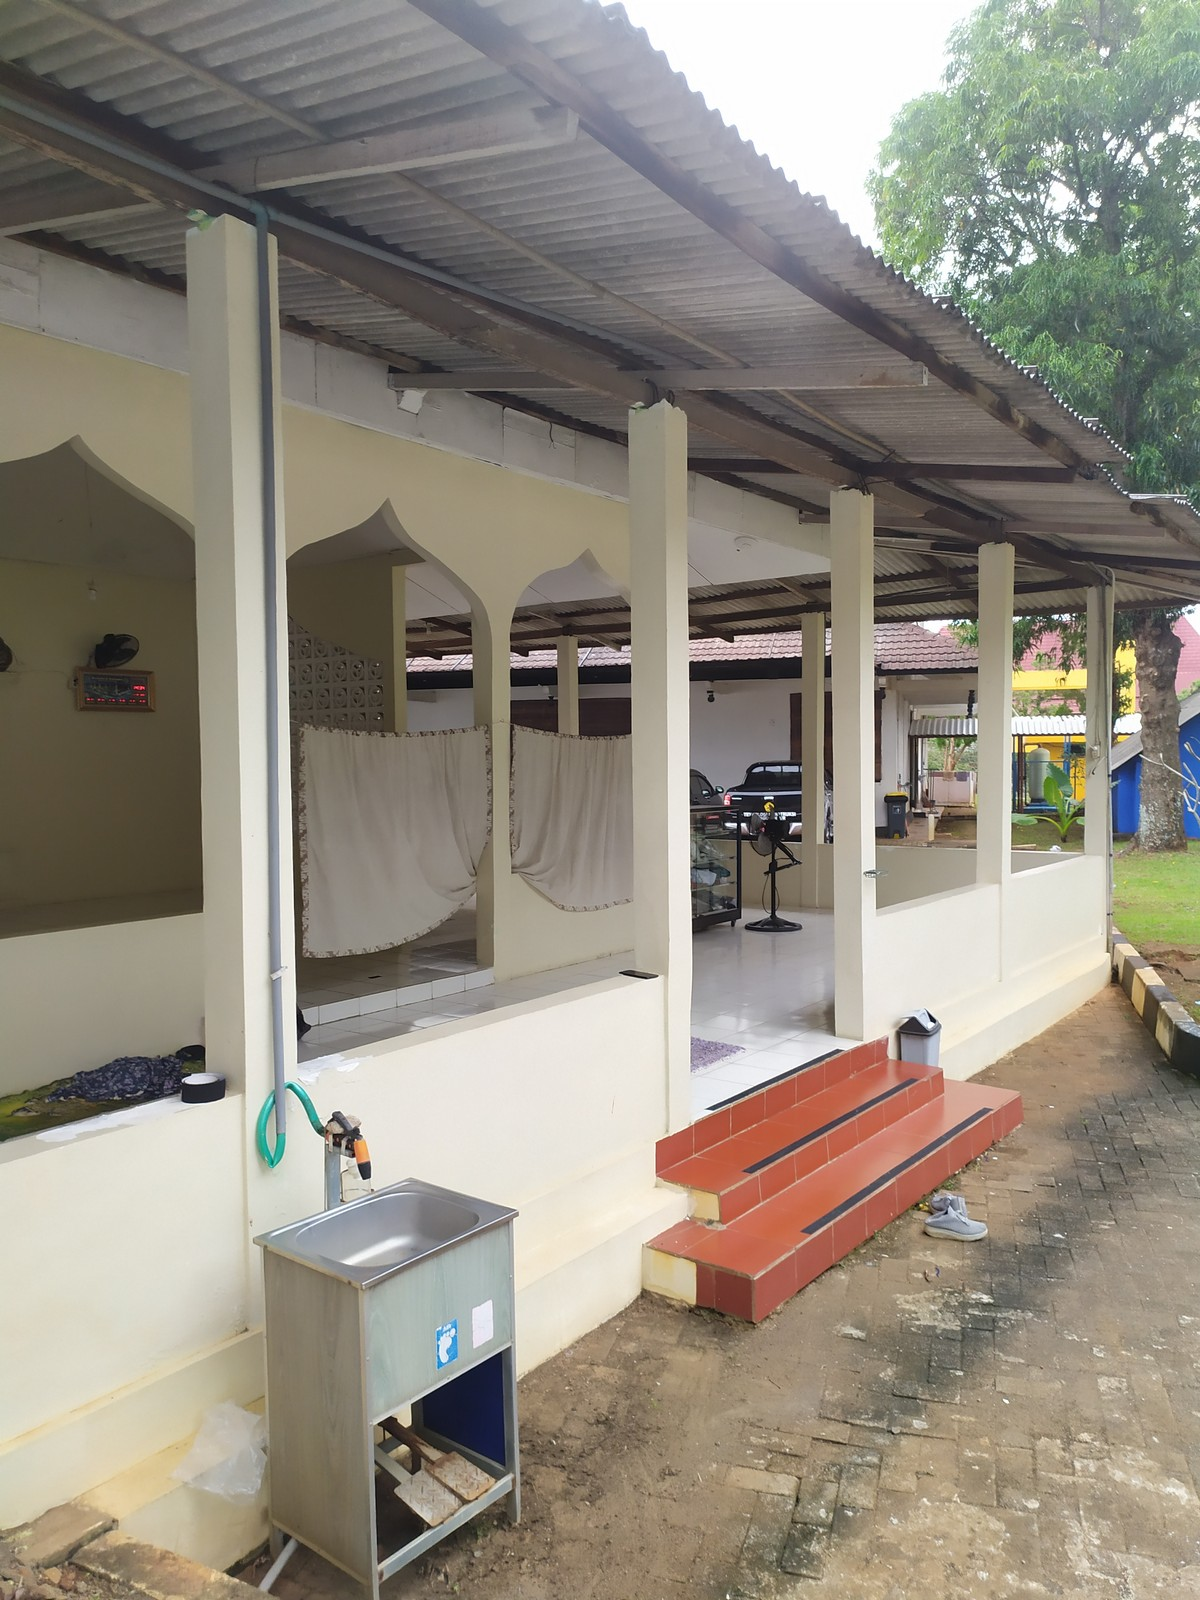concrete column: (175, 207, 306, 1212), (618, 394, 696, 1123), (824, 483, 886, 1034), (465, 601, 518, 974), (972, 538, 1011, 952), (795, 605, 834, 908), (1082, 577, 1118, 867)
